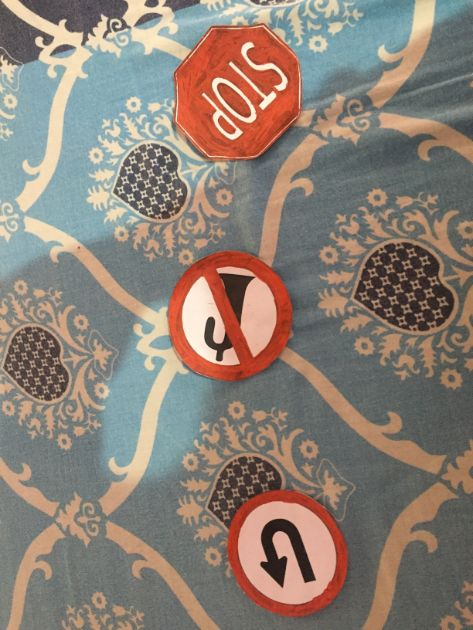no-horn: (170, 251, 301, 382)
stop: (174, 25, 309, 160)
u-turn: (229, 495, 350, 616)
